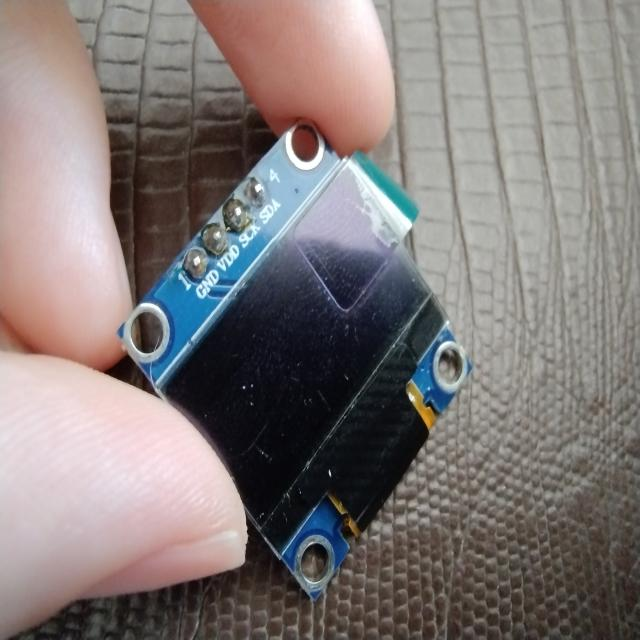oled: (110, 106, 476, 606)
